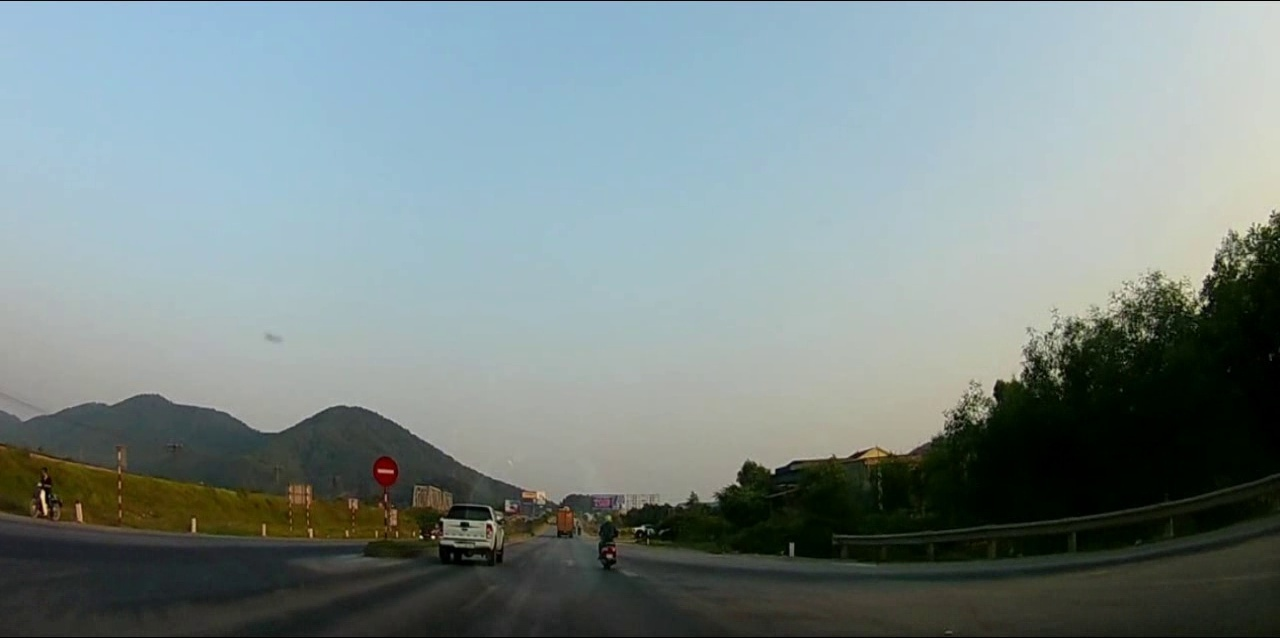Cam di nguoc chieu: (371, 455, 400, 486)
